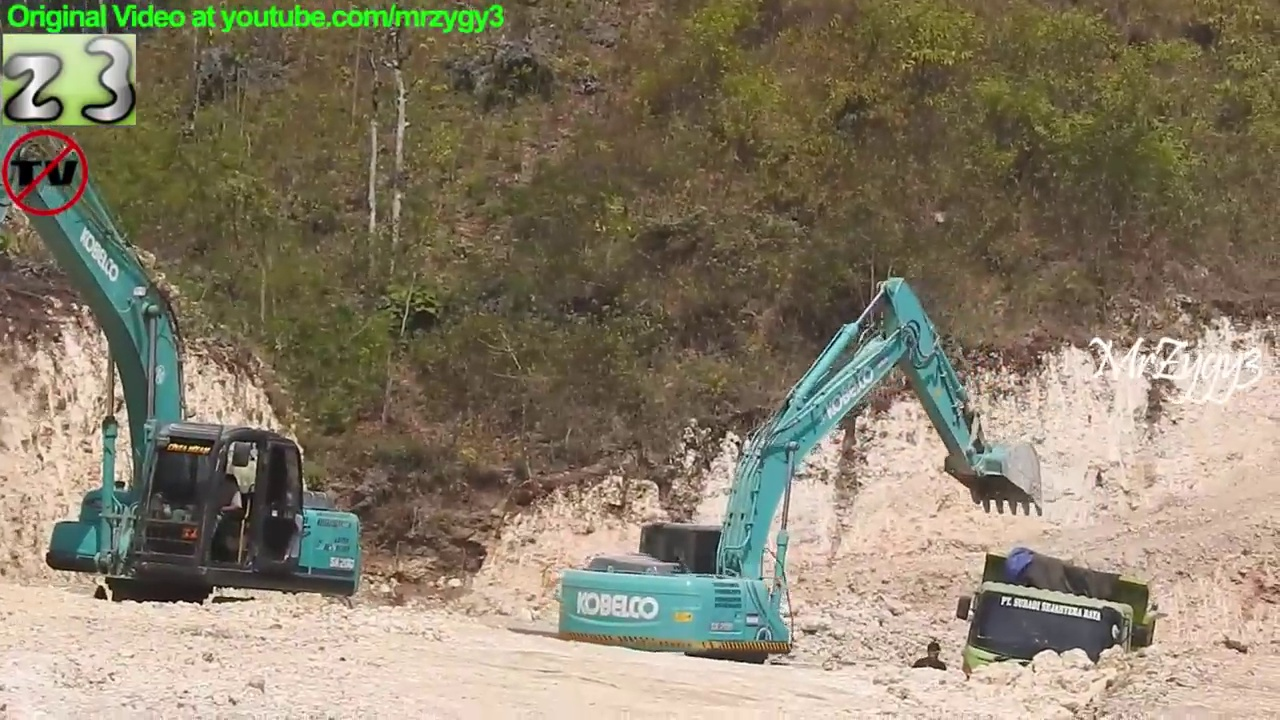excavator: (541, 271, 1047, 703), (1, 61, 368, 637)
truck: (944, 540, 1171, 720)
